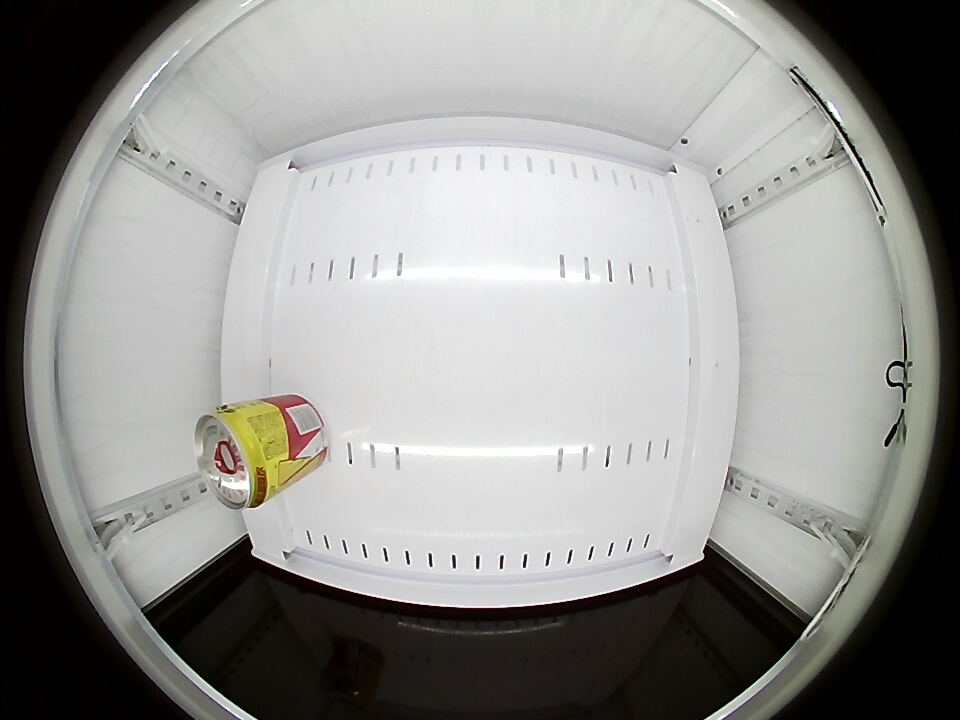dongpeng: (194, 404, 281, 511)
